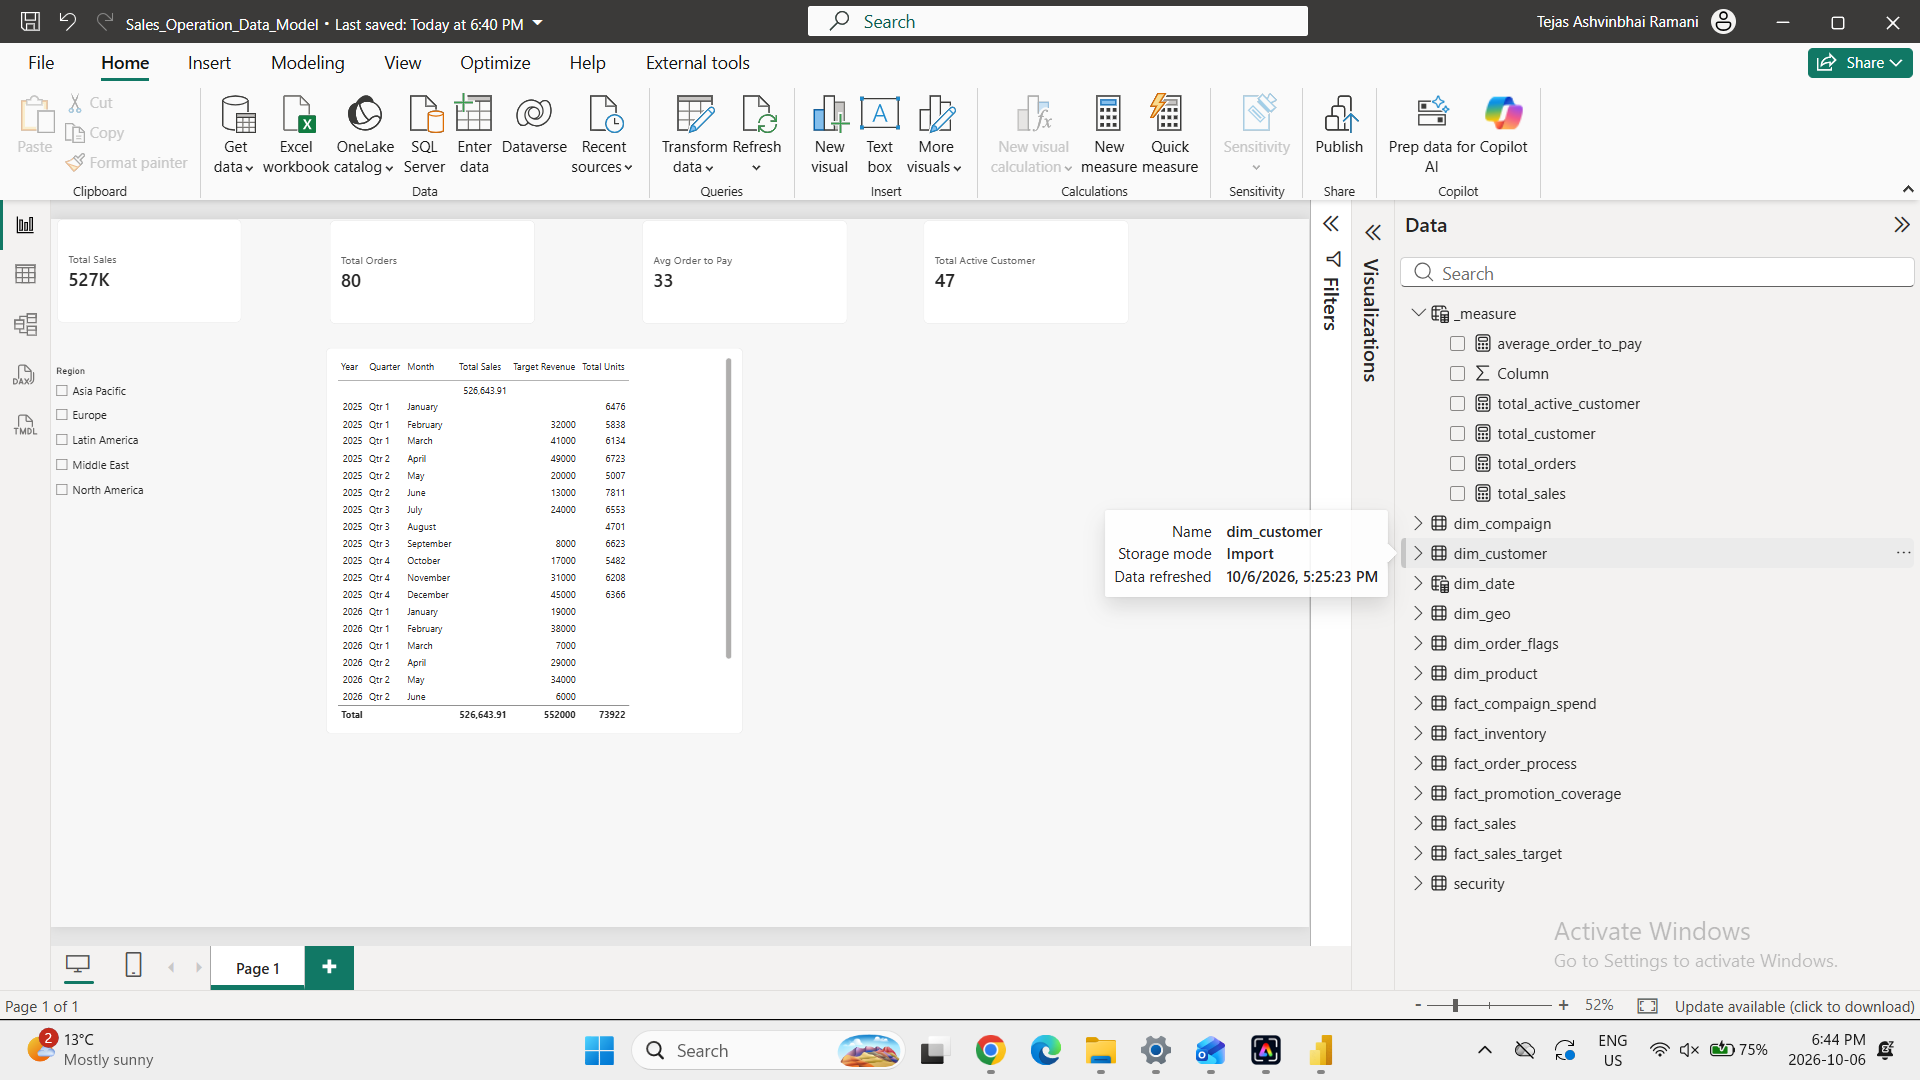

This screenshot's page, from the dashboard's own definition file:
{"tool":"powerbi","page":{"name":"Page 1","canvas":[1920,1080],"ordinal":0},"visuals":[{"type":"tableEx","fields":{"Values":["dim_date.Date.Variation.Date Hierarchy.Year","dim_date.Date.Variation.Date Hierarchy.Quarter","dim_date.Date.Variation.Date Hierarchy.Month","Sum(fact_sales.line_total)","Sum(fact_sales_target.target_revenue)","Sum(fact_inventory.units)"]},"box":[419.9,195.5,636,588.7],"z":0},{"type":"cardVisual","fields":{"Data":["_measure.total_sales"]},"box":[10.3,0,282,158.5],"z":1000},{"type":"cardVisual","fields":{"Data":["_measure.total_orders"]},"box":[426.1,2.1,313,158],"z":2000},{"type":"cardVisual","fields":{"Data":["_measure.average_order_to_pay"]},"box":[901.5,2.1,313,158],"z":3000},{"type":"cardVisual","fields":{"Data":["_measure.total_active_customer"]},"box":[1331.7,2.1,313,158],"z":4000},{"type":"slicer","fields":{"Values":["dim_customer.region"]},"box":[0,222.3,179.1,666.9],"z":5000}]}

Visuals, with their boxes on the page's 1920x1080 design canvas (x1, y1, x2, y2). These are canvas units, not pixel positions in the 1920x1080 screenshot, which may show the page scaled, cropped or inside an application window:
tableEx - dim_date.Date.Variation.Date Hierarchy.Year x dim_date.Date.Variation.Date Hierarchy.Quarter: bbox(420, 196, 1056, 784)
cardVisual - _measure.total_sales: bbox(10, 0, 292, 158)
cardVisual - _measure.total_orders: bbox(426, 2, 739, 160)
cardVisual - _measure.average_order_to_pay: bbox(902, 2, 1214, 160)
cardVisual - _measure.total_active_customer: bbox(1332, 2, 1645, 160)
slicer - dim_customer.region: bbox(0, 222, 179, 889)
